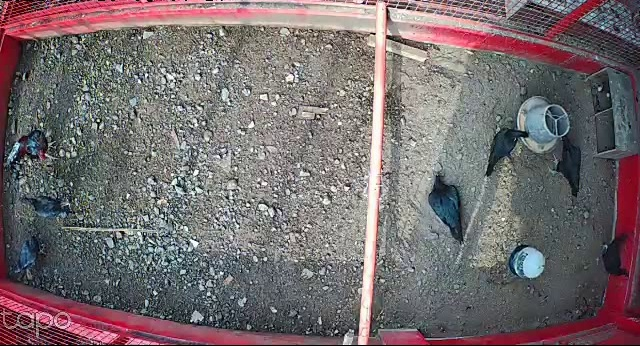Chicken: (426, 171, 469, 243), (483, 123, 531, 177), (546, 132, 584, 197), (19, 189, 73, 220), (599, 232, 630, 280), (16, 236, 48, 282)
Feeder: (517, 96, 572, 154)
Rooster: (4, 128, 66, 164)
